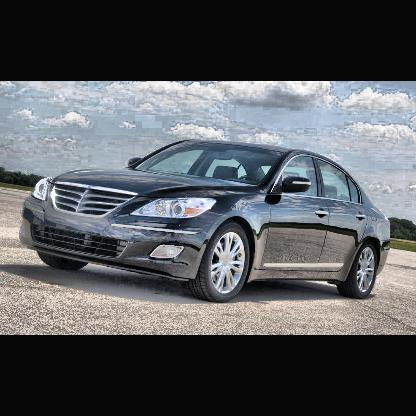Hyundai Genesis Sedan 2012: (23, 139, 392, 302)
